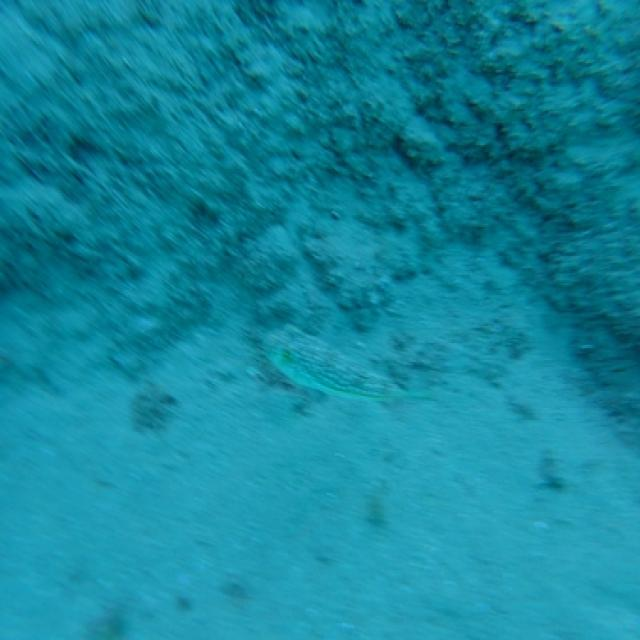Balik: (268, 328, 426, 401)
